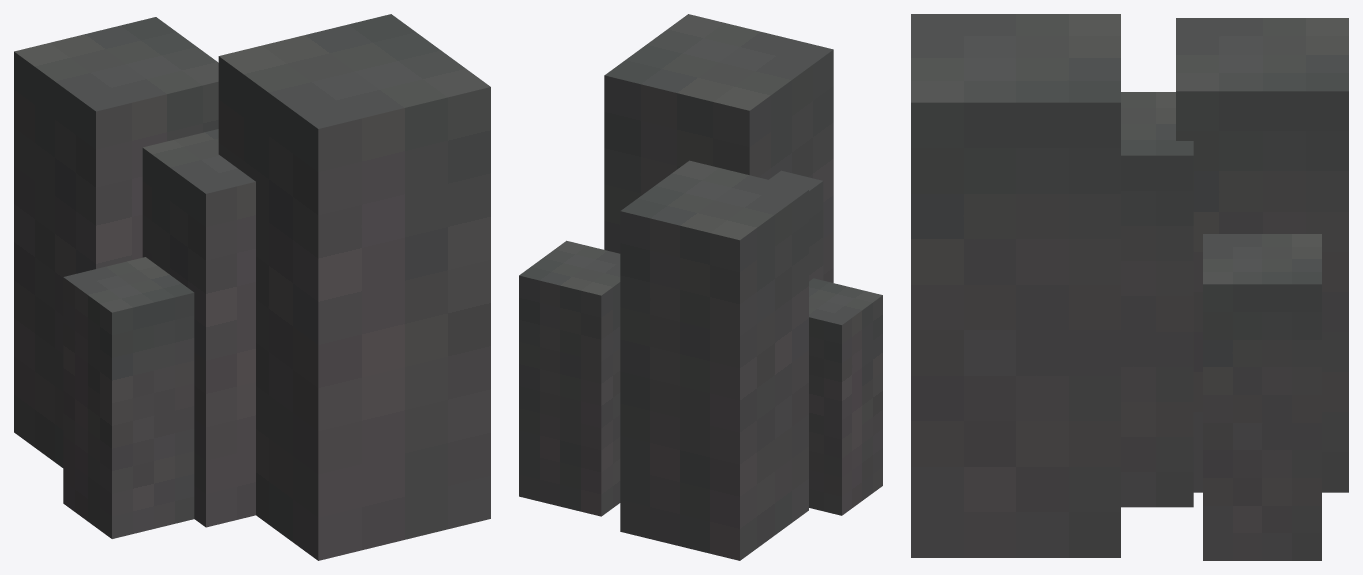
File: pyrolusite_crystal_five.obj
3 renders of one model, left to right at view 1: azimuth 30°, elevation 25°; view 2: azimuth 150°, elevation 25°; view 3: azimuth 270°, elevation 25°, orthographic. The views are drawn at different scales.
Parts seen in each view (by area): view 1: Crystal4_Cube.000, Crystal1_Cube.003, Crystal2_Cube.002, Crystal3_Cube.001; view 2: Crystal1_Cube.003, Crystal4_Cube.000, Crystal5_Cube.008, Crystal2_Cube.002, Crystal3_Cube.001; view 3: Crystal4_Cube.000, Crystal1_Cube.003, Crystal5_Cube.008, Crystal3_Cube.001.
Part boxes in pixels (x1,y1,x2,y2): Crystal4_Cube.000: [218, 14, 490, 560]; Crystal1_Cube.003: [14, 17, 218, 467]; Crystal2_Cube.002: [63, 257, 194, 538]; Crystal3_Cube.001: [142, 129, 255, 527]; Crystal1_Cube.003: [620, 160, 808, 560]; Crystal4_Cube.000: [604, 14, 833, 282]; Crystal5_Cube.008: [519, 240, 620, 516]; Crystal2_Cube.002: [809, 278, 882, 515]; Crystal3_Cube.001: [769, 170, 823, 281]; Crystal4_Cube.000: [911, 14, 1120, 557]; Crystal1_Cube.003: [1176, 18, 1348, 492]; Crystal5_Cube.008: [1203, 234, 1321, 560]; Crystal3_Cube.001: [1121, 92, 1193, 507].
Size of the model in its own units: 0.4881 by 0.6473 by 0.5645.
